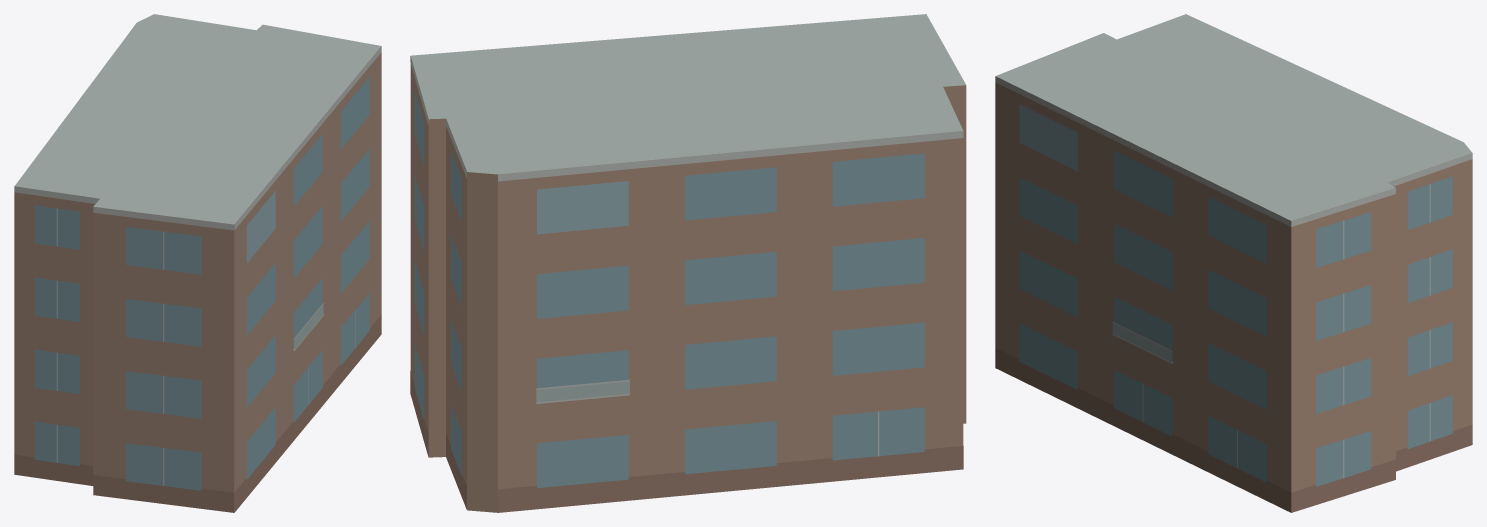
File: survey-upis-32688786.glb
3 views of the same model, side by side, from view 1: azimuth 30°, elevation 25°; view 2: azimuth 150°, elevation 25°; view 3: azimuth 270°, elevation 25° (orthographic). The views are drawn at different scales.
Visible parts, largest first — view 1: survey-upis-32688786.tmp; view 2: survey-upis-32688786.tmp; view 3: survey-upis-32688786.tmp.
Part boxes in pixels (box(x1,y1,x2,y2)): survey-upis-32688786.tmp: box(14, 14, 381, 512); survey-upis-32688786.tmp: box(410, 14, 966, 512); survey-upis-32688786.tmp: box(995, 14, 1472, 512).
Bounding box in the file's own units: 17.8 × 11.7 × 17.34.
